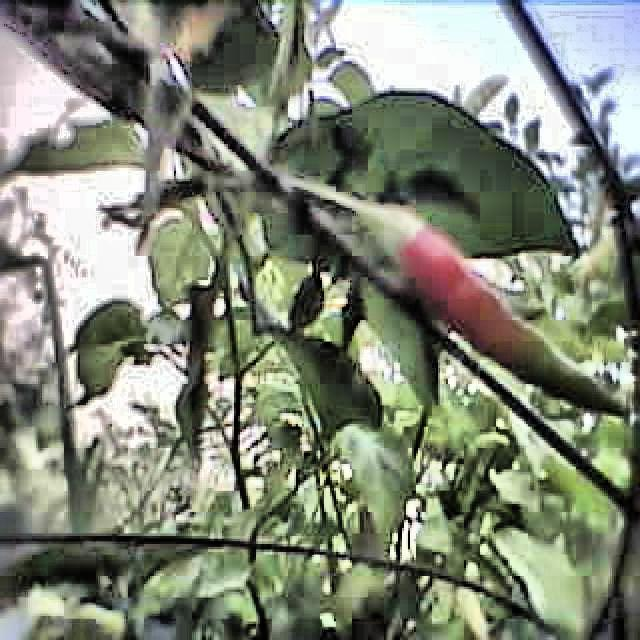Cabai: (394, 197, 620, 424)
